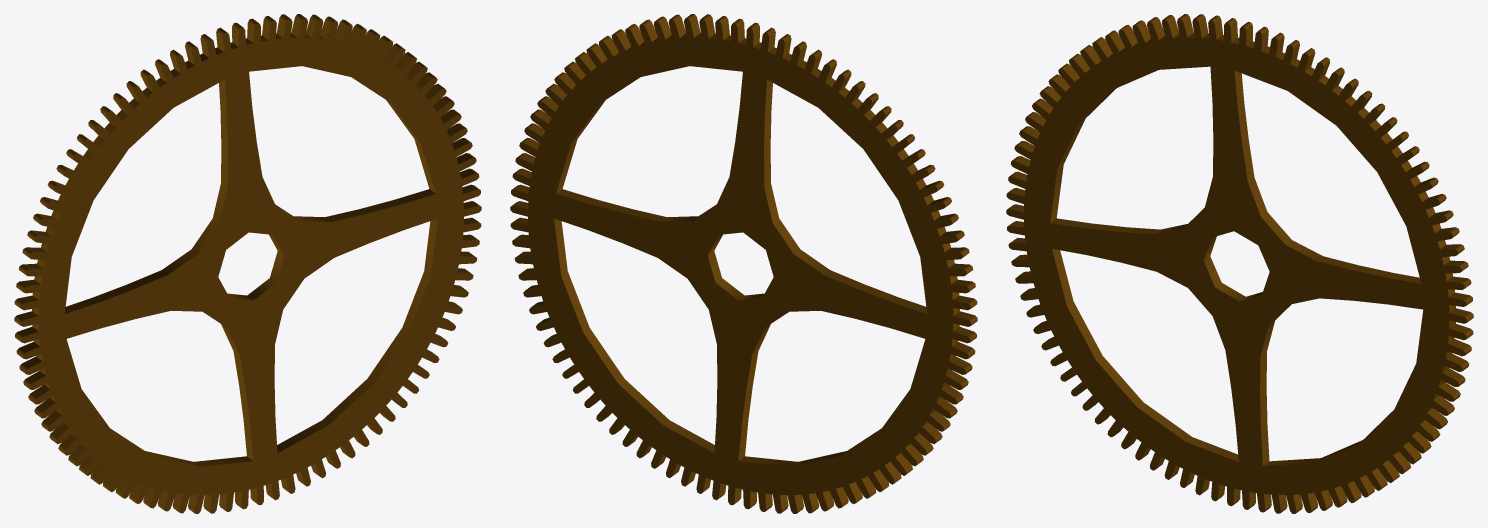
File: Roue dente_Roue des Heures.obj
3 renders of one model, left to right at view 1: azimuth 30°, elevation 25°; view 2: azimuth 150°, elevation 25°; view 3: azimuth 330°, elevation 25°, orthographic.
Parts seen in each view (by area): view 1: Face_2, Face_378, Face_368, Face_369, Face_363, Face_367, Face_373, Face_379, Face_374; view 2: Face_1, Face_378, Face_368, Face_369, Face_363, Face_367, Face_373, Face_379, Face_374; view 3: Face_2, Face_374, Face_364, Face_365, Face_375, Face_363, Face_379, Face_370, Face_369.
Boxes of the visible parts, x1,y1,x2,y2 form: Face_2: (21, 19, 481, 513); Face_378: (277, 218, 437, 452); Face_368: (162, 184, 227, 274); Face_369: (64, 270, 167, 313); Face_363: (325, 189, 435, 221); Face_367: (219, 79, 227, 187); Face_373: (233, 351, 253, 460); Face_379: (227, 234, 284, 300); Face_374: (110, 428, 252, 466); Face_1: (510, 19, 970, 513); Face_378: (554, 218, 714, 452); Face_368: (764, 184, 829, 274); Face_369: (824, 270, 927, 313); Face_363: (556, 189, 666, 221); Face_367: (764, 79, 772, 187); Face_373: (738, 351, 758, 460); Face_379: (707, 234, 764, 300); Face_374: (739, 428, 881, 466); Face_2: (1006, 19, 1466, 513); Face_374: (1052, 249, 1238, 461); Face_364: (1248, 178, 1323, 260); Face_365: (1234, 70, 1254, 181); Face_375: (1260, 351, 1269, 465); Face_363: (1317, 256, 1421, 283); Face_379: (1204, 236, 1262, 301); Face_370: (1050, 88, 1116, 222); Face_369: (1050, 218, 1159, 234).
Size of the model in its own units: 0.0766 by 0.0765 by 0.0019.
